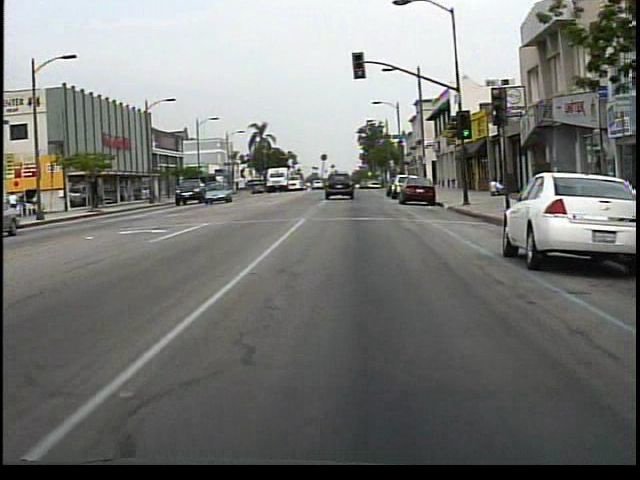person: (9, 185, 28, 218), (485, 175, 502, 200)
